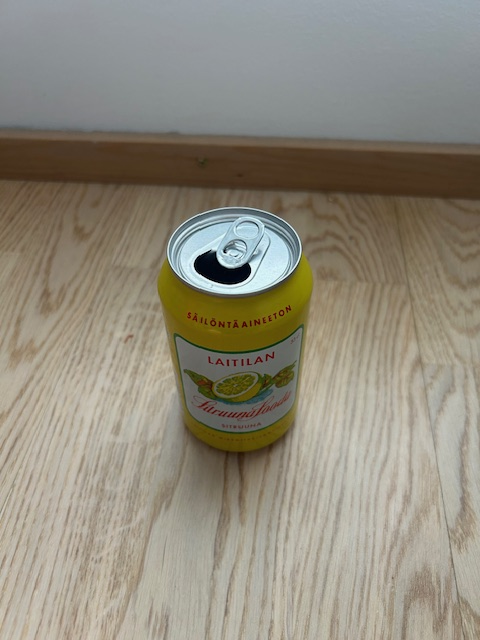Pantburk: (156, 206, 314, 454)
